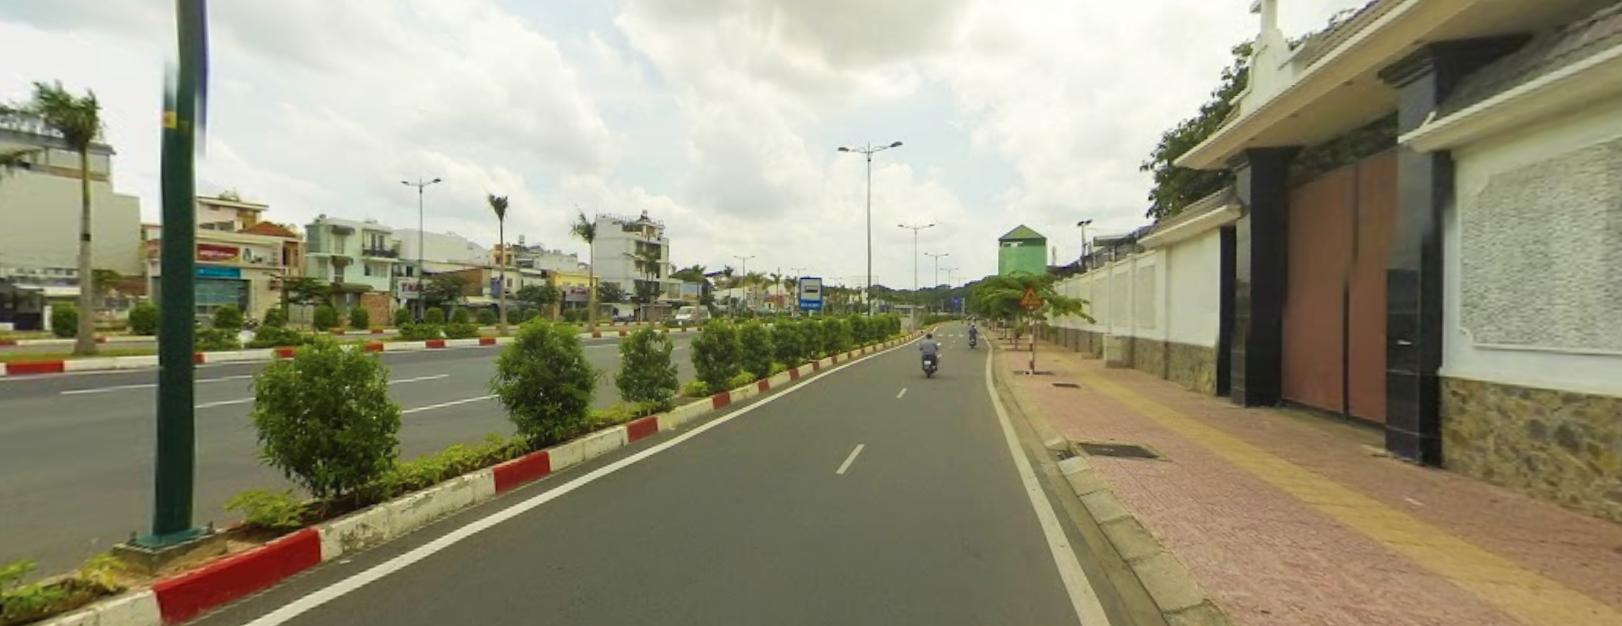Nguy hiem: (1017, 282, 1044, 306)
